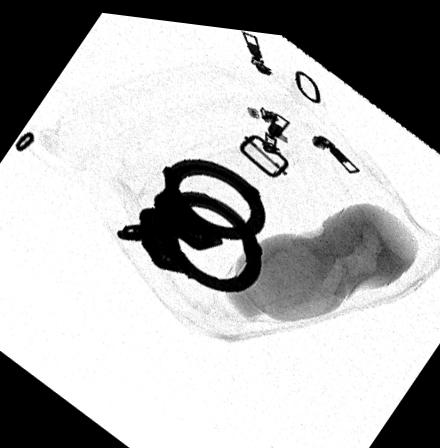HandCuffs: (115, 152, 266, 286)
